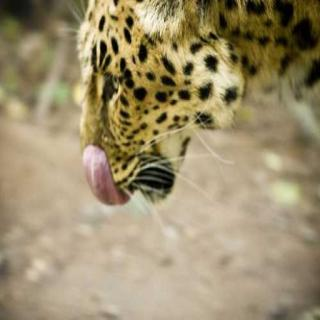Leopard: (49, 1, 320, 216)
